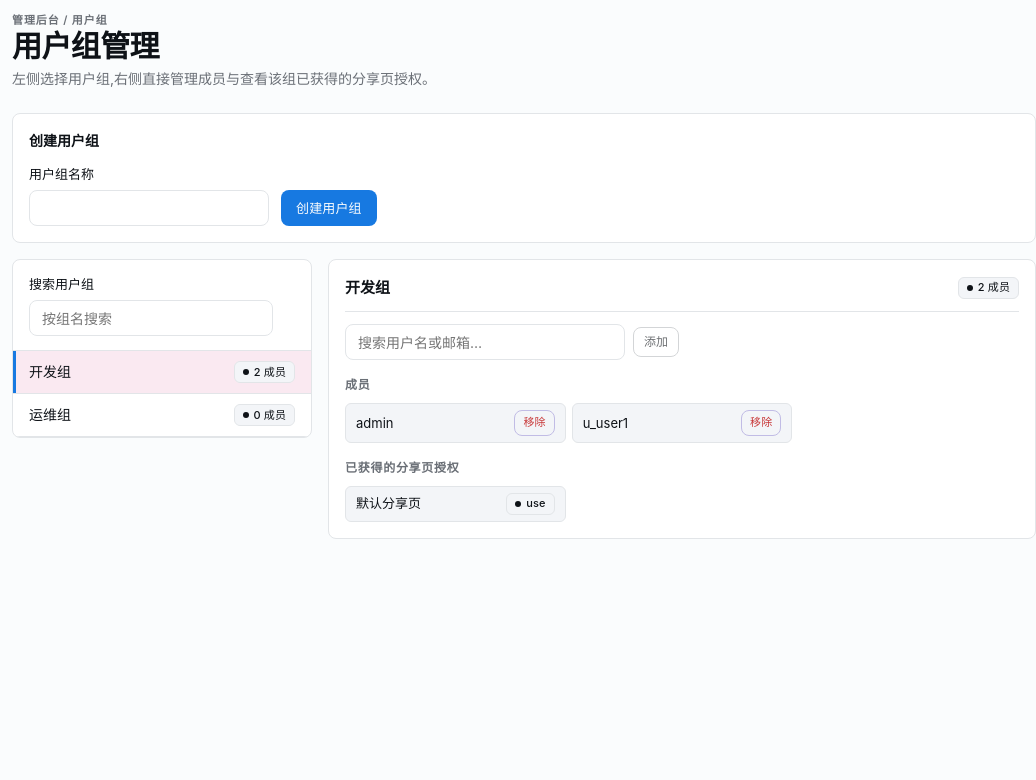
Scenario: GroupsAdminPage (Issue 89 master-detail) › 添加成员 — chips 移除后不再提交该用户
The width and height of the screenshot is (1036, 780).
Expected: the button with test id "group-row-g_dev" is shown, [13,351,311,394]
Expected: the element with test id "group-detail" is shown, [328,259,1035,538]
Click the button with test id "group-row-g_ops": (50, 415) [13,394,311,437]
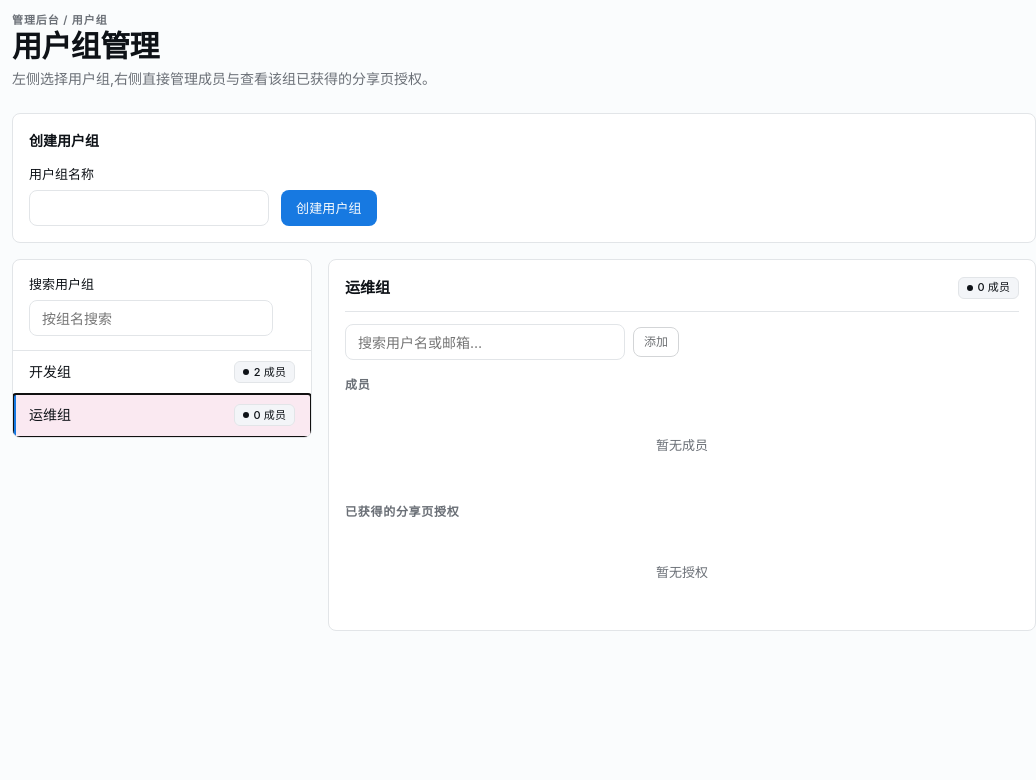
Click the dropdown named "选择用户": (485, 342) [345,324,625,360]
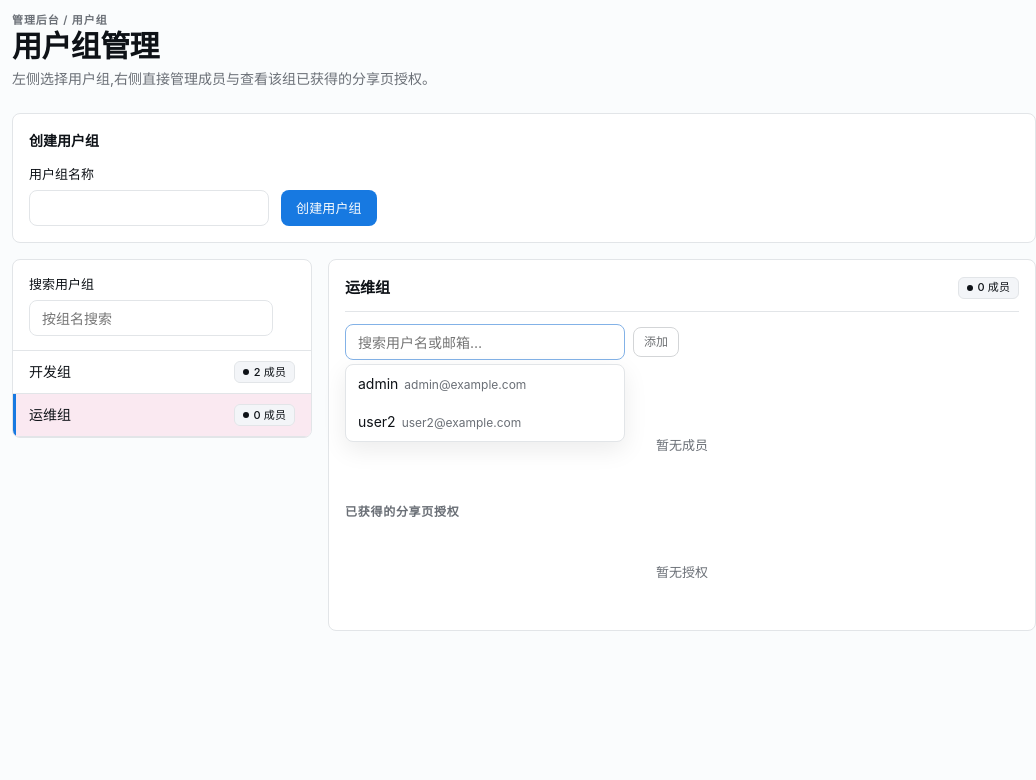
Click the option "user2 user2@example.com": (440, 422) [358,413,521,430]
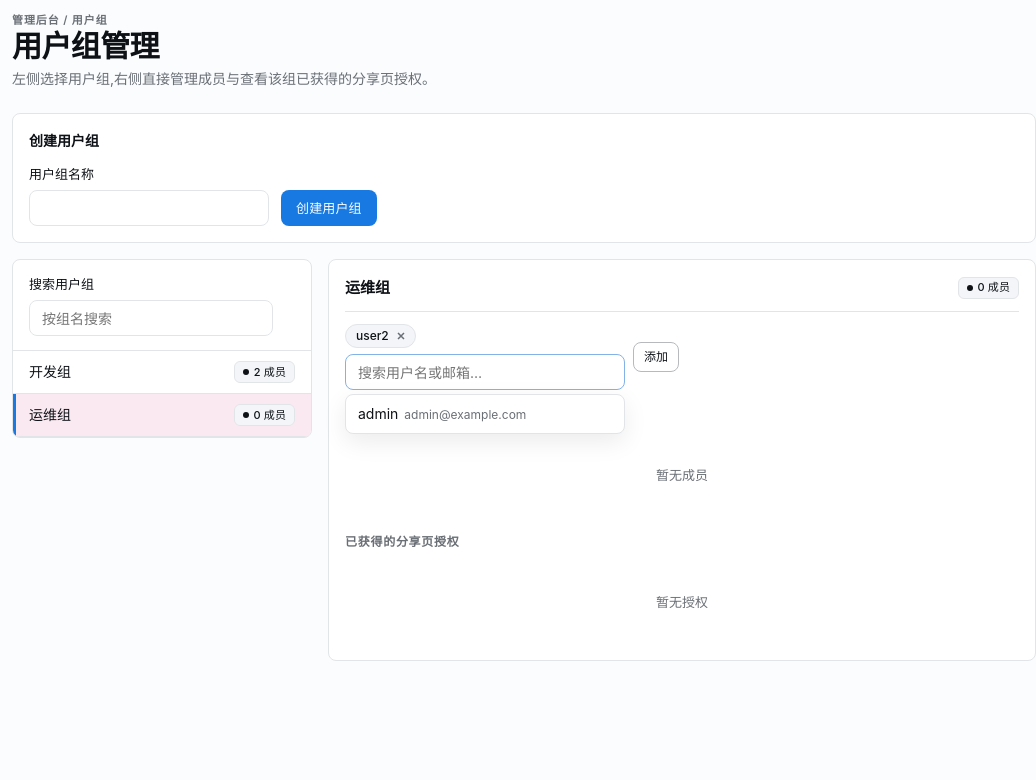
Click the button named "移除 user2": (401, 336) [393,328,409,344]
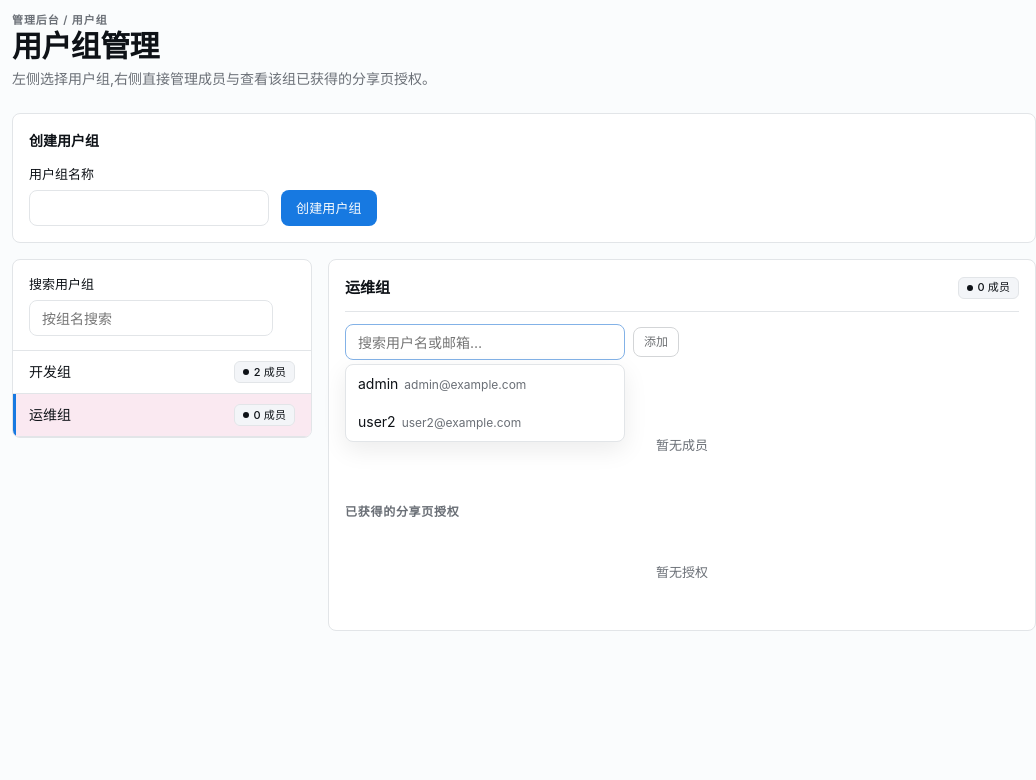
Result: the button "添加" is disabled at [633,327,679,357]
